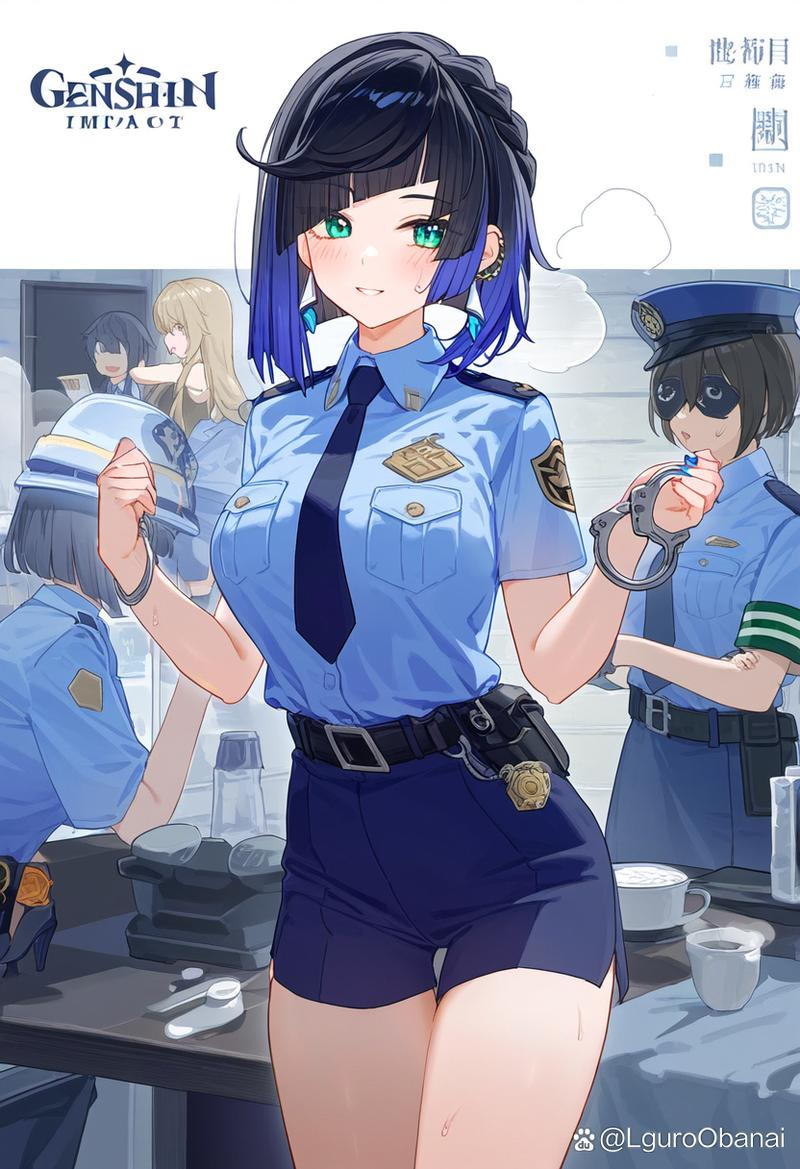夜兰: (85, 33, 724, 1169)
